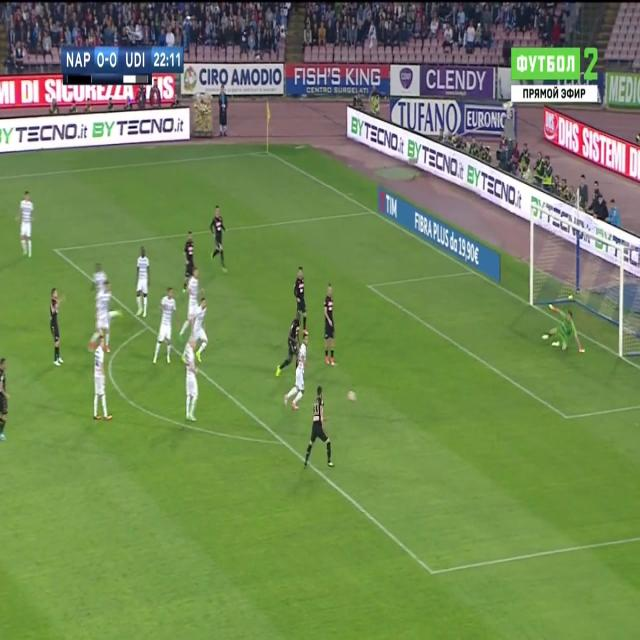Ball: (346, 386, 358, 408)
Goalkeeper: (541, 303, 588, 358)
Player: (302, 384, 334, 471), (151, 286, 178, 370), (284, 332, 312, 411), (86, 276, 114, 355), (47, 286, 70, 370), (91, 333, 111, 427), (274, 309, 301, 378), (180, 266, 202, 344), (182, 336, 200, 424), (134, 244, 153, 322), (210, 202, 230, 276), (322, 280, 338, 368), (17, 188, 35, 260), (193, 297, 210, 361), (296, 262, 309, 340), (182, 230, 197, 294), (0, 356, 10, 445)
